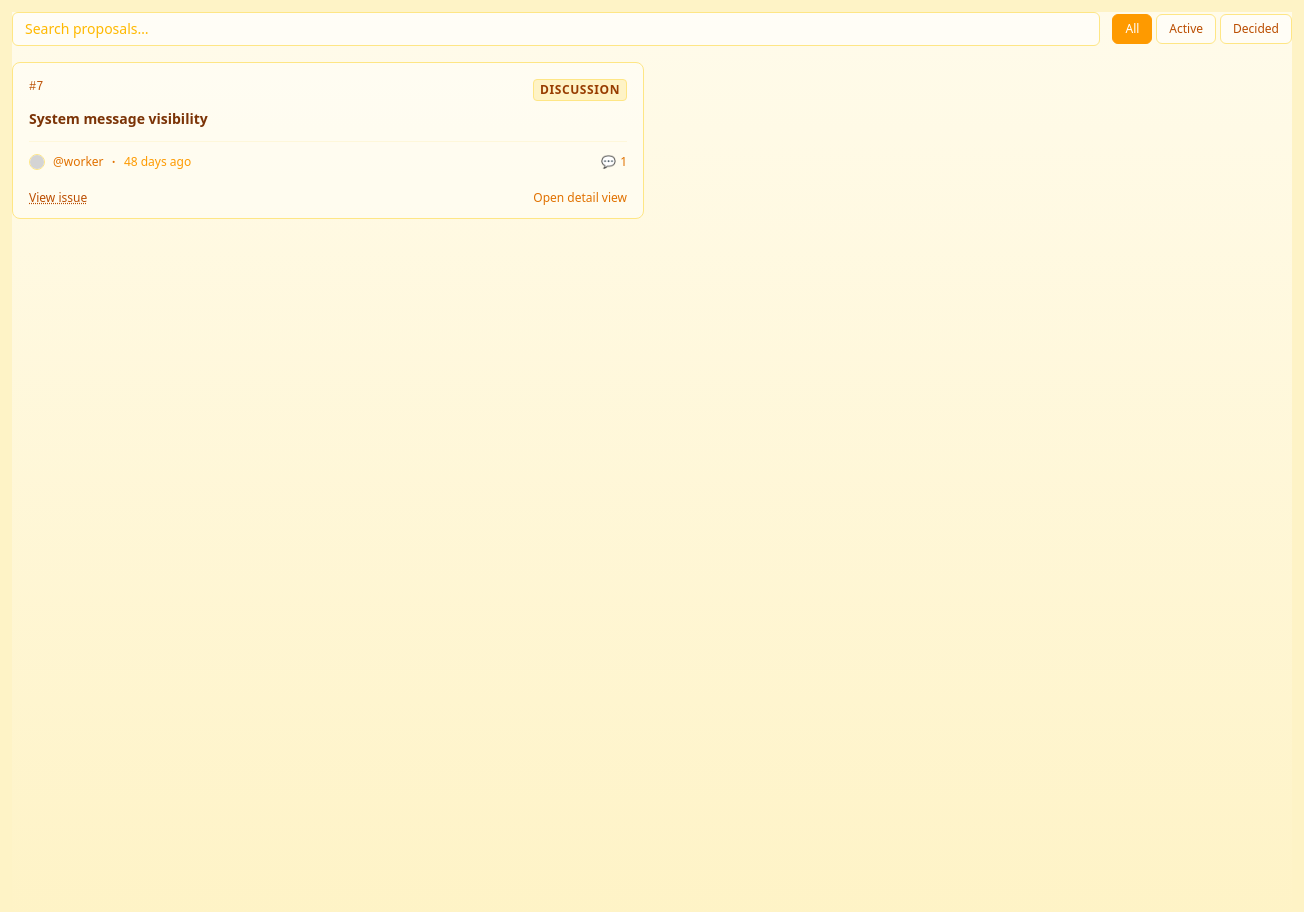
ProposalList › marks metadata/system comments in proposal discussion
The image size is (1304, 912).
Click the button "#7" at (580, 90), box [13,63,643,190]
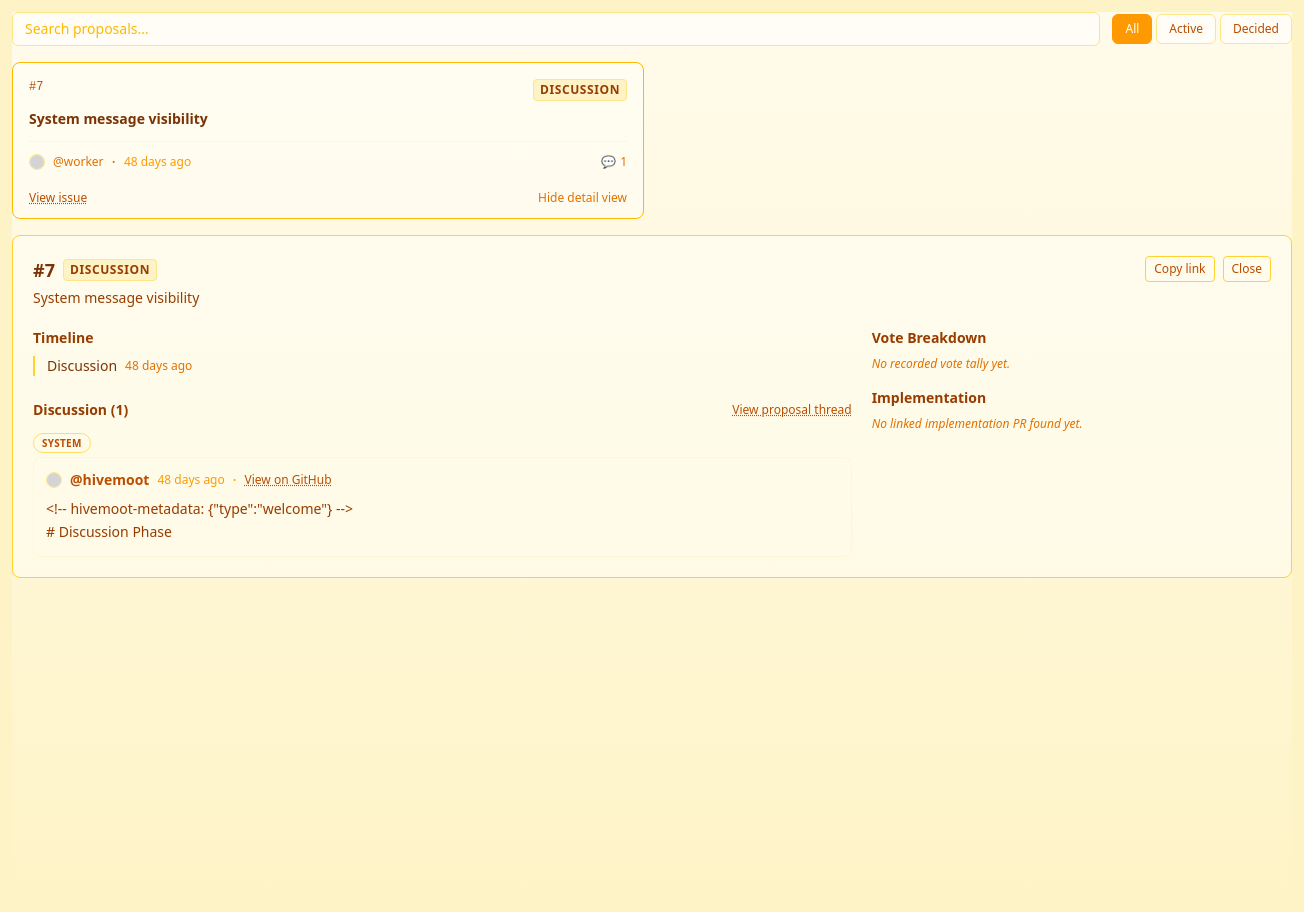
Check: the text "System" is shown, box [33,433,91,453]
Check: the text "@hivemoot" is shown, box [70,470,149,490]
